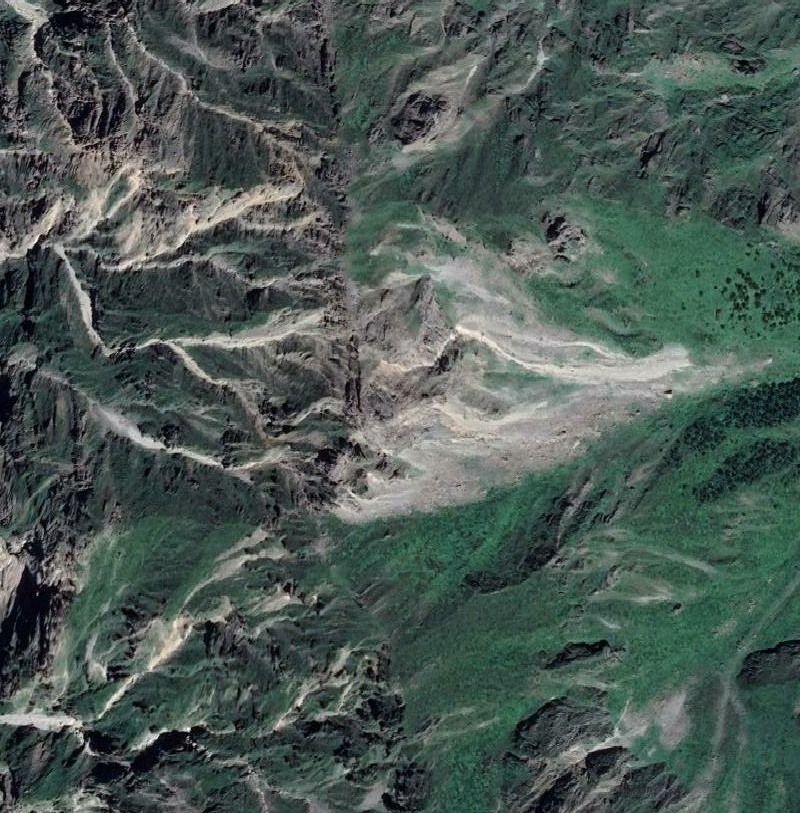slope: (332, 210, 754, 523)
